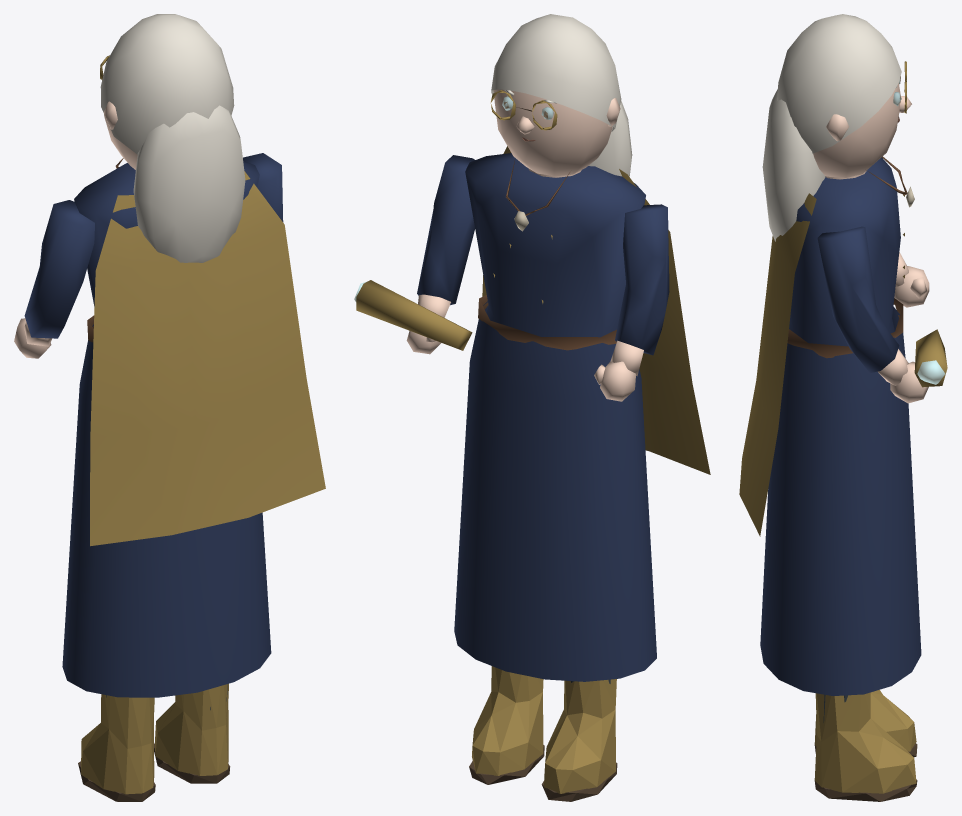
The model's file is SM_NPC_AURORA_MEDIA.glb.
3 renders of one model, left to right at view 1: azimuth 30°, elevation 25°; view 2: azimuth 150°, elevation 25°; view 3: azimuth 270°, elevation 25°, orthographic. The views are drawn at different scales.
Visible parts, largest first — view 1: SM_NPC_AURORA_BODY, SM_NPC_AURORA_HEAD, SM_NPC_AURORA_ARM_L, SM_NPC_AURORA_ARM_R; view 2: SM_NPC_AURORA_BODY, SM_NPC_AURORA_HEAD, SM_NPC_AURORA_ARM_R, SM_NPC_AURORA_ARM_L; view 3: SM_NPC_AURORA_BODY, SM_NPC_AURORA_HEAD, SM_NPC_AURORA_ARM_R, SM_NPC_AURORA_ARM_L.
Boxes of the visible parts, x1=… form: SM_NPC_AURORA_BODY: x1=62, y1=158, x2=325, y2=801; SM_NPC_AURORA_HEAD: x1=100, y1=14, x2=245, y2=262; SM_NPC_AURORA_ARM_L: x1=14, y1=200, x2=94, y2=358; SM_NPC_AURORA_ARM_R: x1=243, y1=153, x2=283, y2=222; SM_NPC_AURORA_BODY: x1=454, y1=146, x2=710, y2=801; SM_NPC_AURORA_HEAD: x1=490, y1=14, x2=632, y2=176; SM_NPC_AURORA_ARM_R: x1=354, y1=155, x2=474, y2=354; SM_NPC_AURORA_ARM_L: x1=594, y1=204, x2=669, y2=401; SM_NPC_AURORA_BODY: x1=739, y1=156, x2=921, y2=801; SM_NPC_AURORA_HEAD: x1=762, y1=14, x2=911, y2=241; SM_NPC_AURORA_ARM_R: x1=817, y1=226, x2=947, y2=403; SM_NPC_AURORA_ARM_L: x1=894, y1=252, x2=929, y2=307.
Bounding box in the file's own units: 0.6937 × 1.81 × 0.4544.
